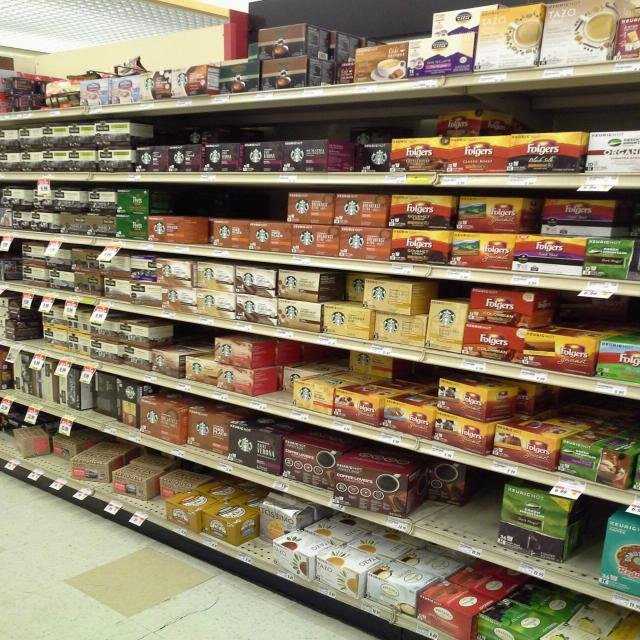empty: (443, 469, 504, 559)
